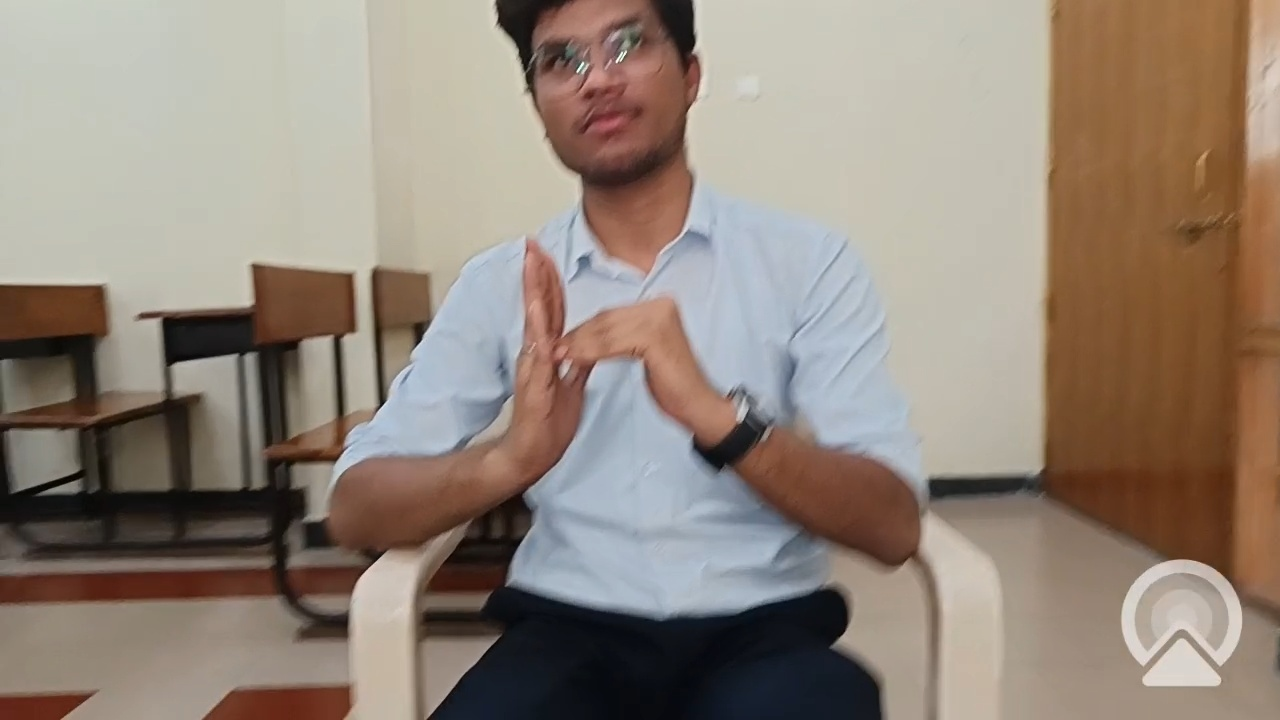Z: (457, 218, 749, 519)
